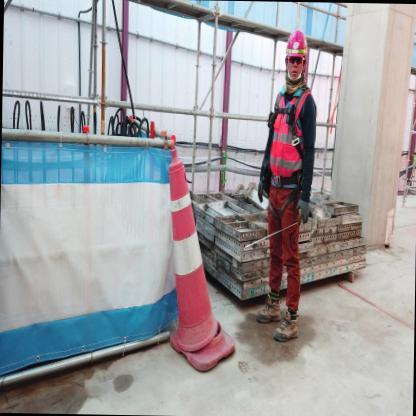Helmet: (279, 32, 312, 61)
safety-shoe: (250, 296, 285, 328), (274, 318, 301, 354)
